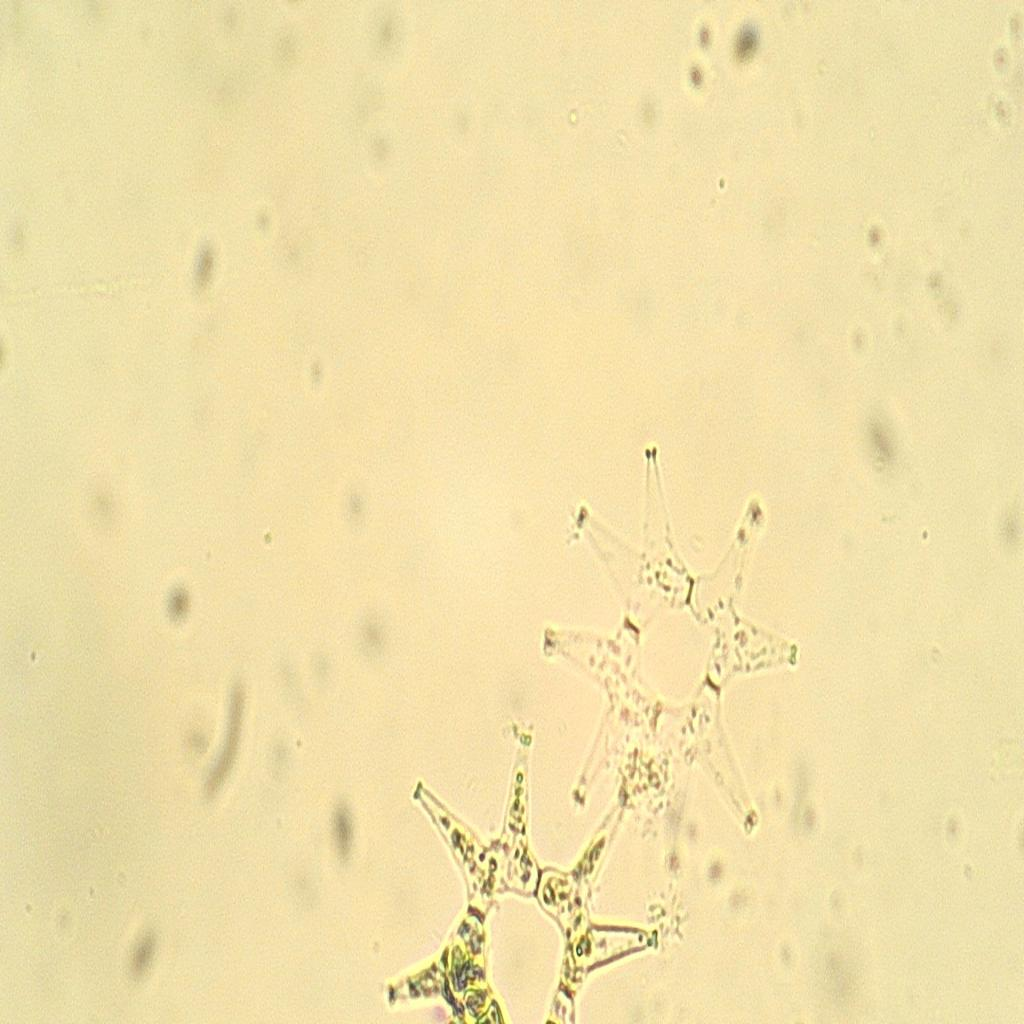Pediastrum_1F0: (522, 420, 828, 904)
